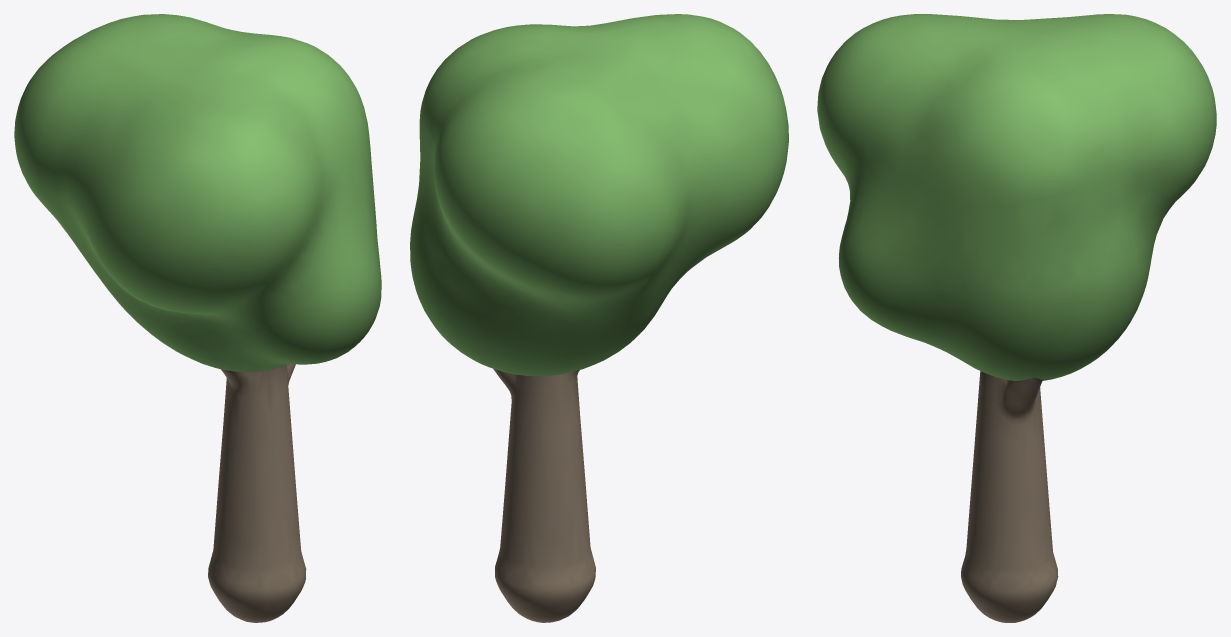
The model's file is touffu.glb.
3 views of the same model, side by side, from view 1: azimuth 30°, elevation 25°; view 2: azimuth 150°, elevation 25°; view 3: azimuth 270°, elevation 25° (orthographic). The views are drawn at different scales.
Parts seen in each view (by area): view 1: feuillage__leaf, tronc__bark; view 2: feuillage__leaf, tronc__bark; view 3: feuillage__leaf, tronc__bark.
Boxes of the visible parts, x1,y1,x2,y2 form: feuillage__leaf: [14, 14, 381, 372]; tronc__bark: [208, 364, 306, 622]; feuillage__leaf: [410, 14, 788, 376]; tronc__bark: [493, 368, 595, 622]; feuillage__leaf: [817, 14, 1216, 380]; tronc__bark: [961, 371, 1058, 622].
Bounding box in the file's own units: 2.84 × 5.29 × 3.39.
